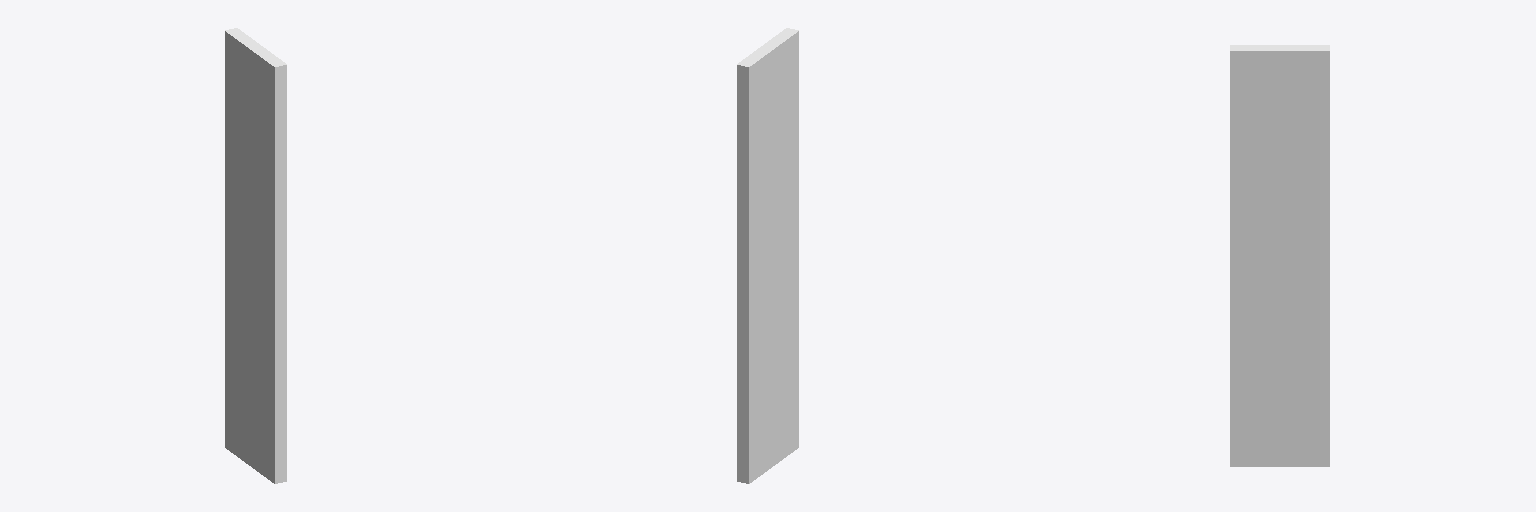
The model's file is plank.obj.
3 views of the same model, side by side, from view 1: azimuth 30°, elevation 25°; view 2: azimuth 150°, elevation 25°; view 3: azimuth 270°, elevation 25° (orthographic).
Visible parts, largest first — view 1: object 1; view 2: object 1; view 3: object 1.
Part boxes in pixels (x1,y1,x2,y2): object 1: (225, 28, 286, 483); object 1: (737, 28, 798, 483); object 1: (1230, 45, 1329, 466).
Bounding box in the file's own units: 0.1 × 3.2 × 0.7.